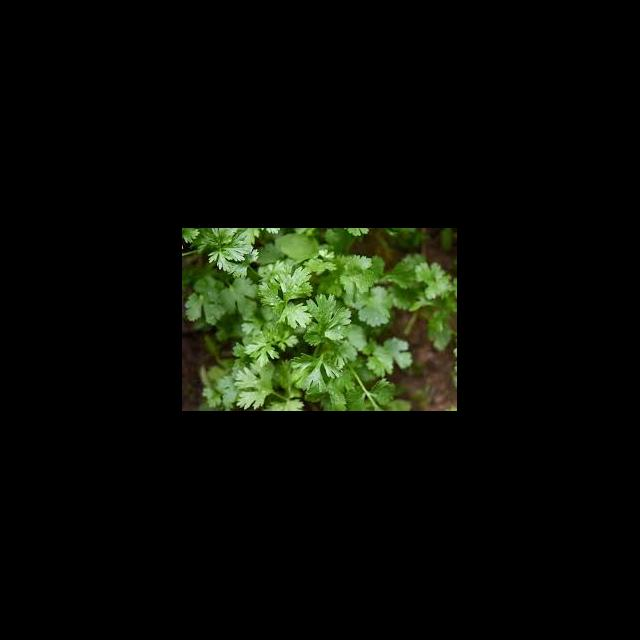cilantro: (182, 228, 458, 412)
